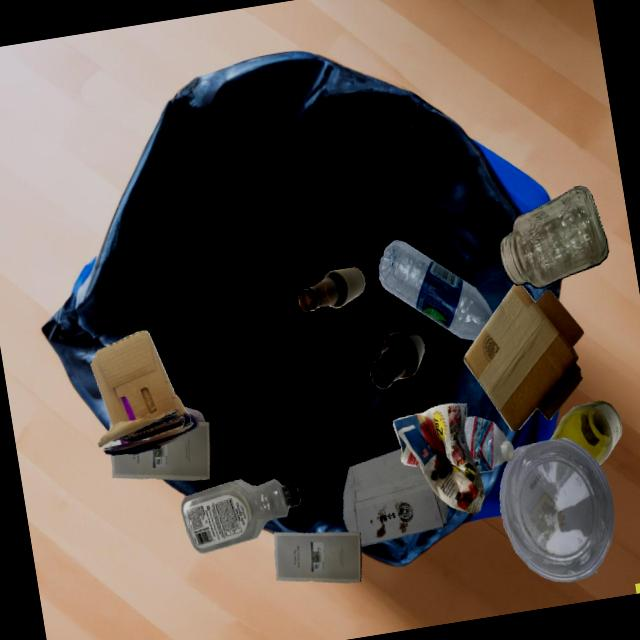cardboard: (463, 284, 584, 432), (90, 330, 199, 455), (343, 448, 447, 547)
glass: (500, 186, 609, 288), (549, 401, 622, 465), (370, 329, 425, 389), (299, 267, 365, 312)
paper: (393, 403, 485, 513), (111, 422, 211, 481), (274, 532, 362, 583)
plastic: (500, 437, 614, 582), (379, 240, 493, 340), (181, 479, 301, 553), (464, 416, 514, 473), (184, 407, 205, 422)
